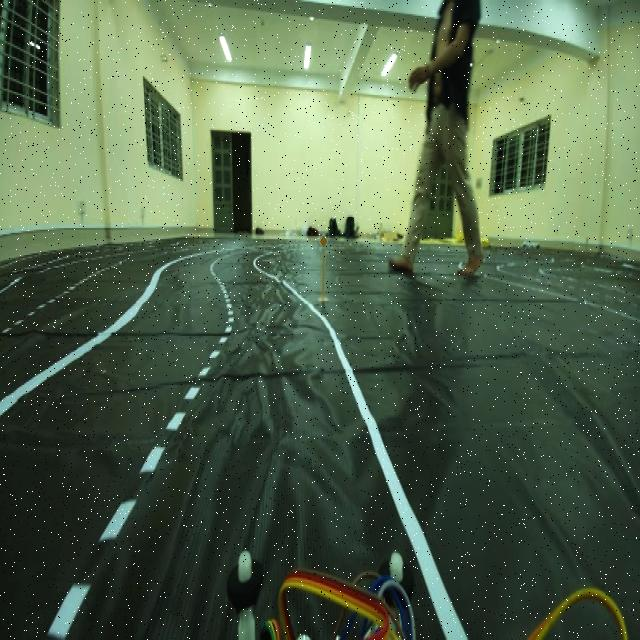priority: (316, 229, 329, 256)
